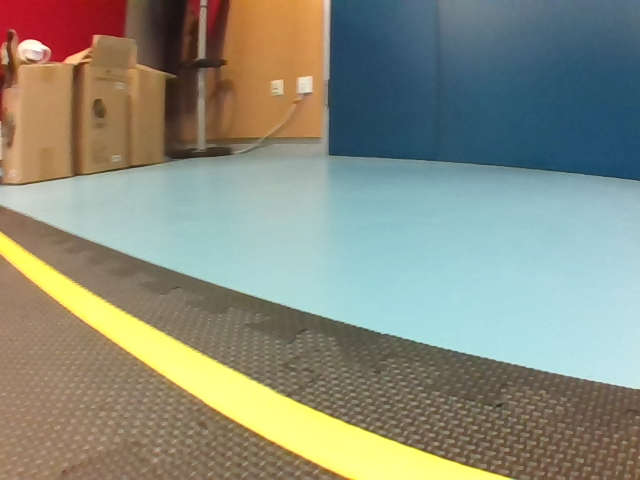30: (406, 82, 448, 126)
no30: (91, 108, 100, 133)
